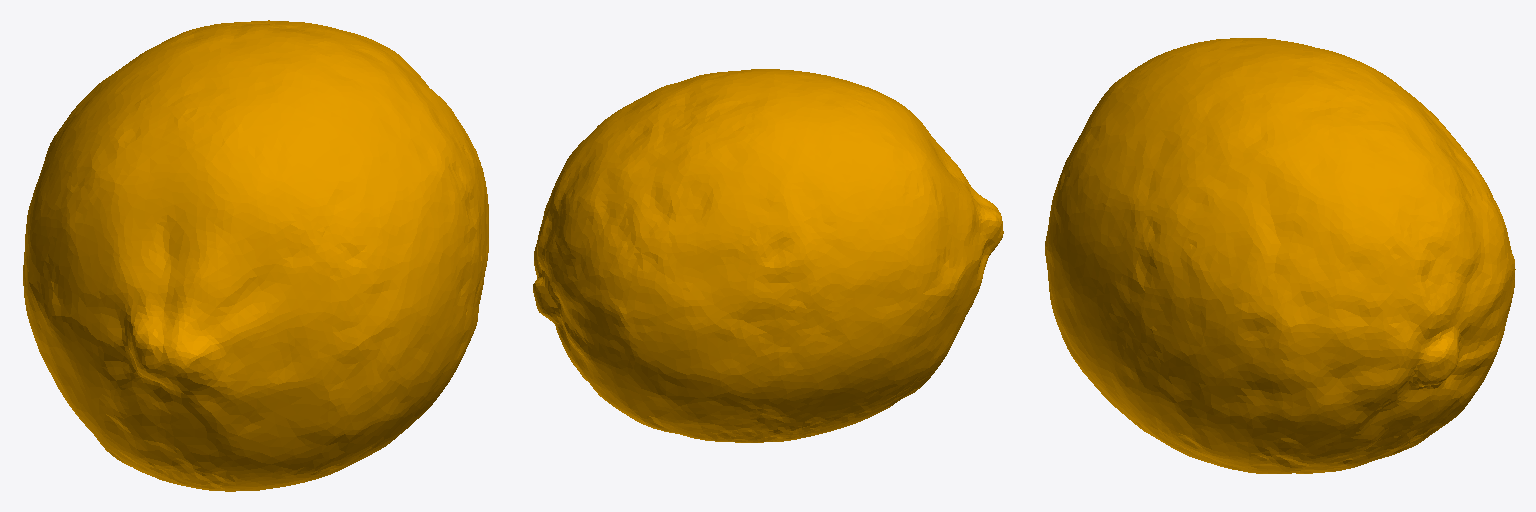
robot.urdf — lemon:
<robot name="lemon">
  <link name="lemon">
    <inertial>
      <origin xyz="-0.010770 0.021014 0.026209" />
      <mass value="0.6" />
      <inertia  ixx="0.763685" ixy="0.645470"  ixz="-0.012384"  iyy="-0.431093"  iyz="-0.831289"  izz="-0.555703" />
    </inertial>
    <visual>
      <origin xyz="0.0 0 0.0"/>
      <geometry>
        <mesh filename="package://penguinpi_gazebo/models/lemon/textured.dae"/>
      </geometry>
    </visual>
    <collision>
      <origin xyz="0.0 0 0.0"/>
      <geometry>
        <mesh filename="package://penguinpi_gazebo/models/lemon/textured.dae"/>
      </geometry>
    </collision>
  </link>
</robot>

--- Render facts (derived) ---
3 views of the same robot in one strip: view 1: azimuth 30°, elevation 25°; view 2: azimuth 150°, elevation 25°; view 3: azimuth 270°, elevation 25° (orthographic).
Model lemon with 1 links and 0 joints (none), rooted at lemon, posed every joint at zero.
Visible links, largest first — view 1: lemon; view 2: lemon; view 3: lemon.
Link boxes in pixels (x1,y1,x2,y2): lemon: (23, 20, 488, 491); lemon: (533, 69, 1003, 442); lemon: (1045, 38, 1515, 473).
Size in the robot's own frame: 0.0606 by 0.0593 by 0.053 metres.
1 mesh visuals loaded from 1 distinct referenced files (1 Collada DAE).